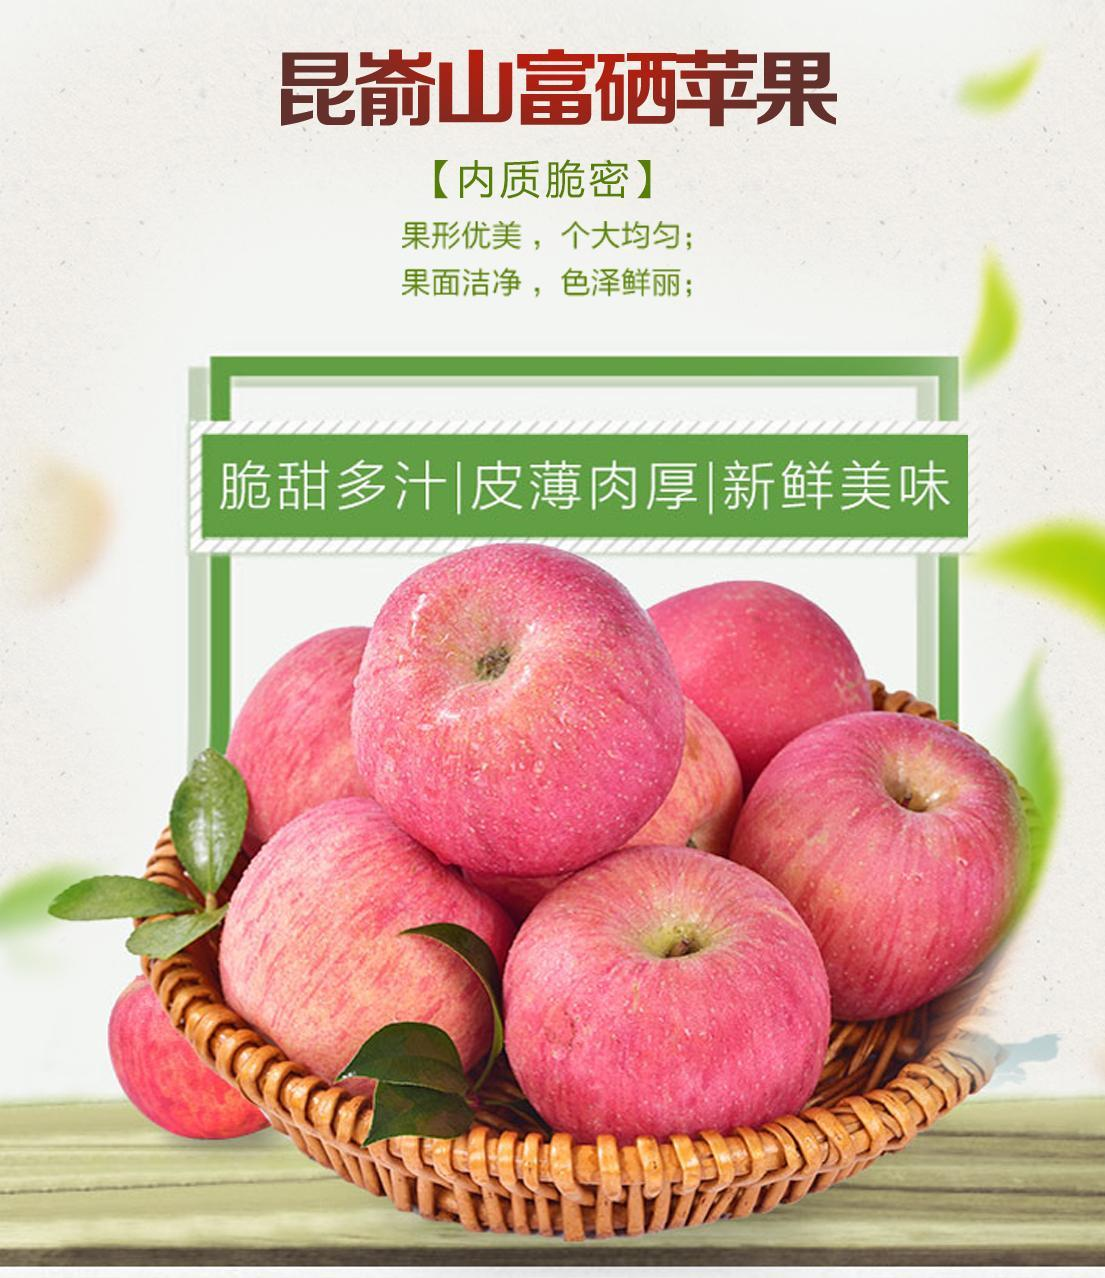apple: (348, 542, 690, 877), (500, 844, 830, 1145), (718, 702, 1030, 1020), (213, 791, 513, 1091), (643, 577, 870, 778)
